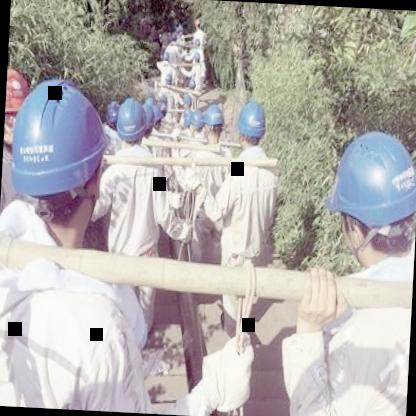helmet: (3, 65, 114, 238), (316, 117, 416, 277), (235, 96, 266, 150), (114, 95, 147, 145), (4, 64, 28, 127), (203, 100, 226, 142), (138, 101, 156, 136), (189, 106, 206, 138)
